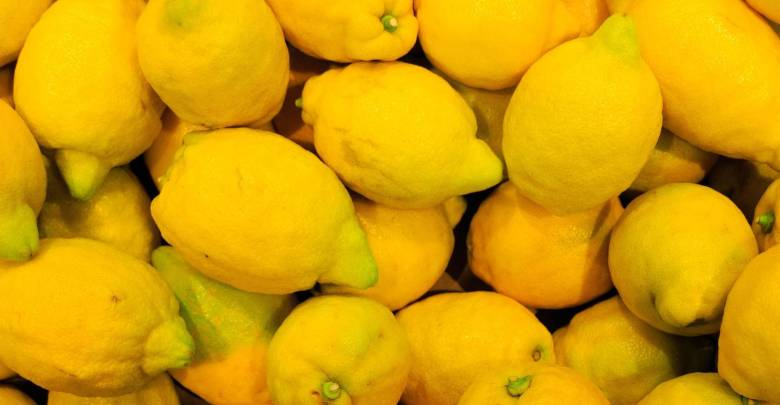Lemon: (148, 123, 386, 305), (287, 55, 522, 216), (1, 230, 194, 399), (500, 32, 669, 223), (604, 180, 758, 347)
